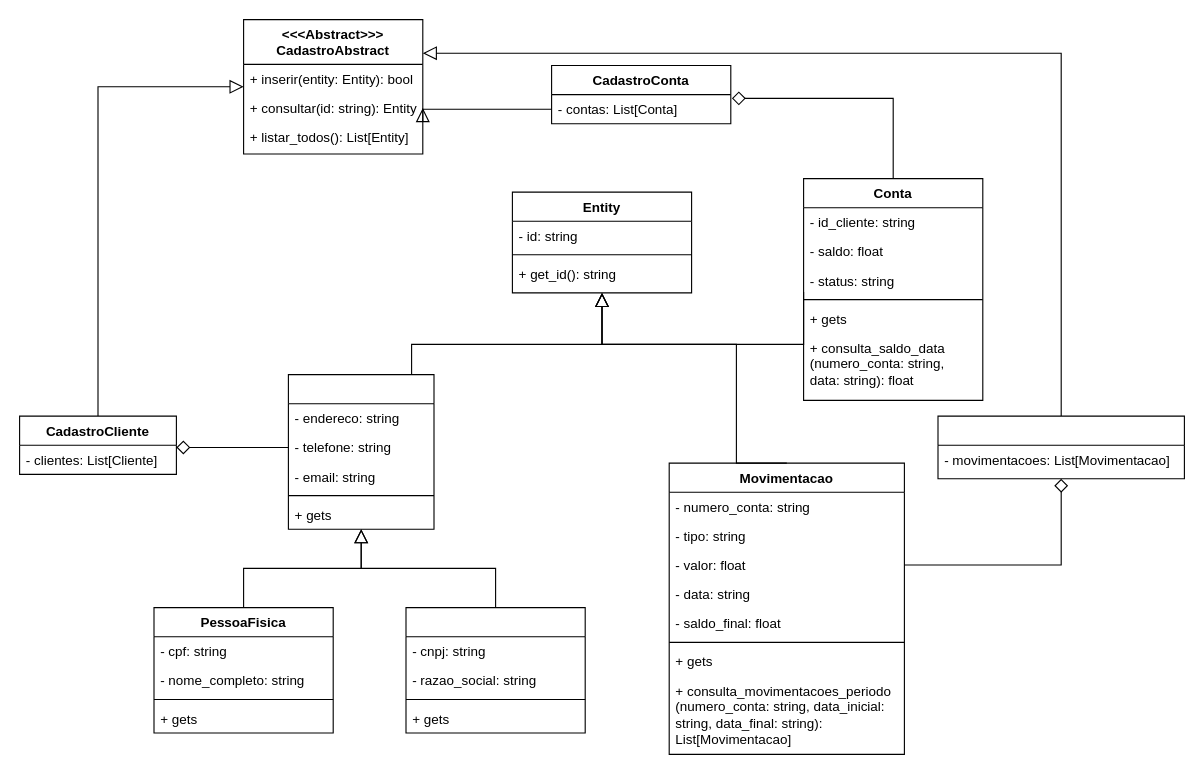
The diagram is 1204 pixels wide and 777 high, and some of its shapes have lost their labels. Here are the shapes that lost their labels. From the top down, the box of each, then its label:
(287, 374, 434, 529): Cliente
(937, 415, 1184, 479): CadastroMovimentacao
(405, 606, 585, 733): PessoaJuridica
